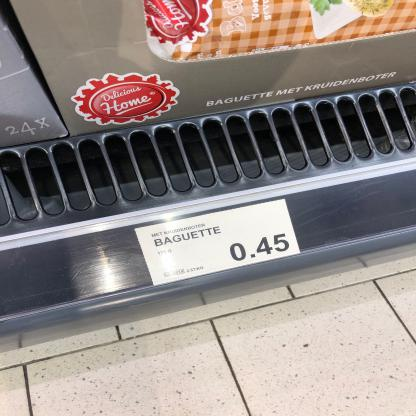prtg: (135, 200, 302, 287)
